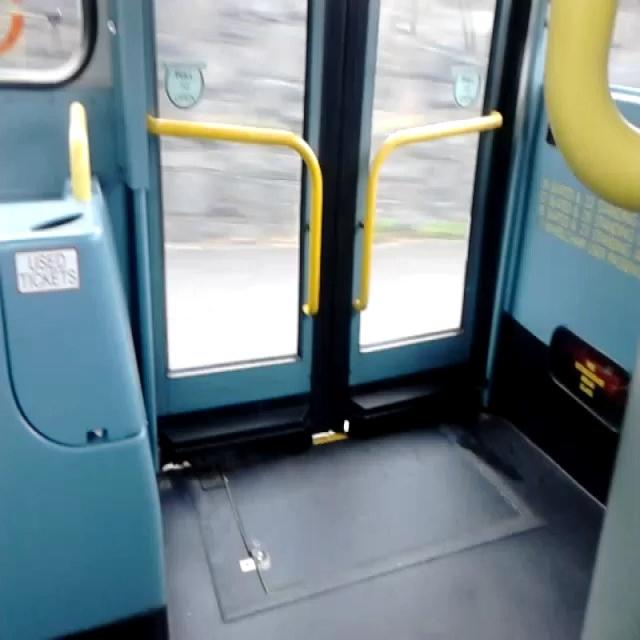bus-door: (147, 3, 521, 460)
